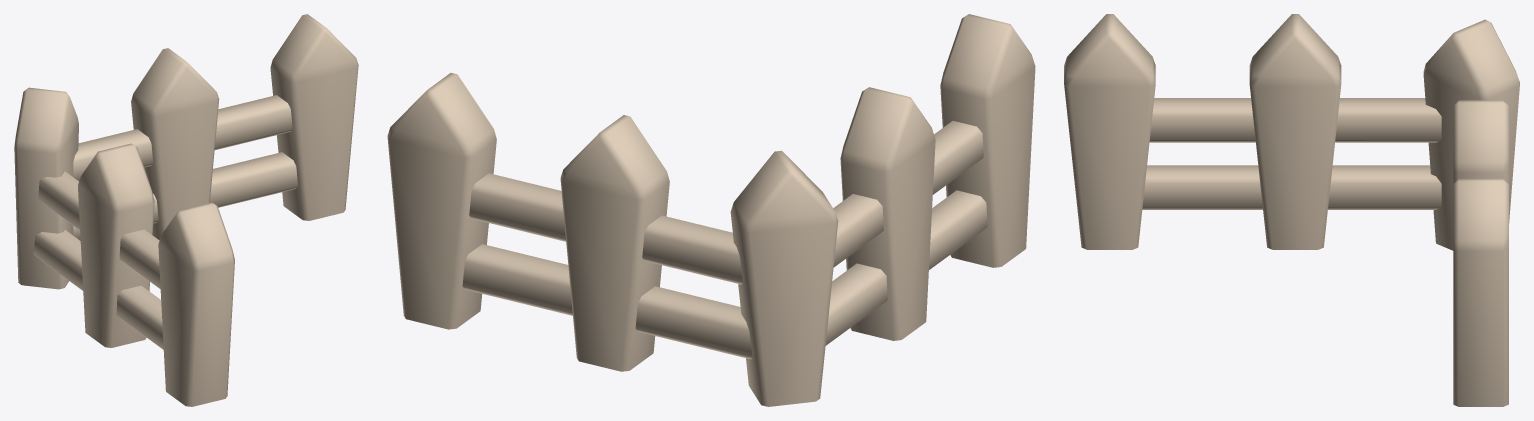
File: fence_corner.glb
3 renders of one model, left to right at view 1: azimuth 30°, elevation 25°; view 2: azimuth 150°, elevation 25°; view 3: azimuth 270°, elevation 25°, orthographic. The views are drawn at different scales.
Visible parts, largest first — view 1: fence_corner; view 2: fence_corner; view 3: fence_corner.
Boxes of the visible parts, left/top/right/bottom form: fence_corner: left=14, top=14, right=358, bottom=406; fence_corner: left=387, top=14, right=1035, bottom=406; fence_corner: left=1064, top=14, right=1519, bottom=406.
Bounding box in the file's own units: 2.46 × 1.28 × 2.46.
